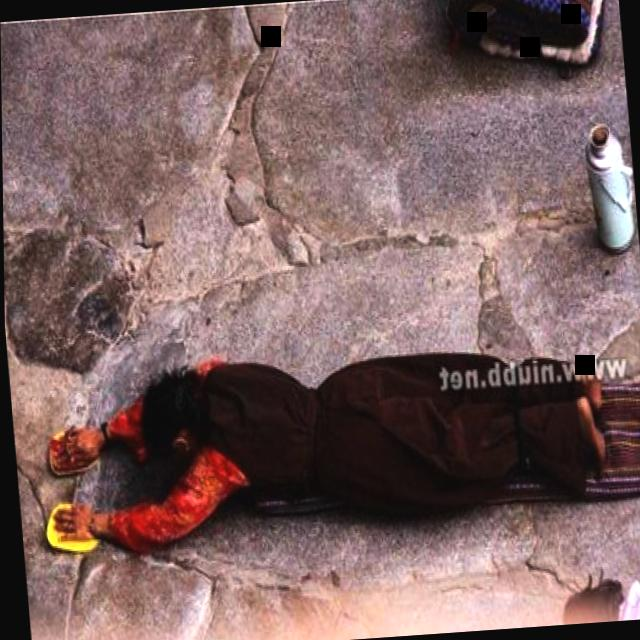Fall-Detected: (27, 312, 640, 596)
